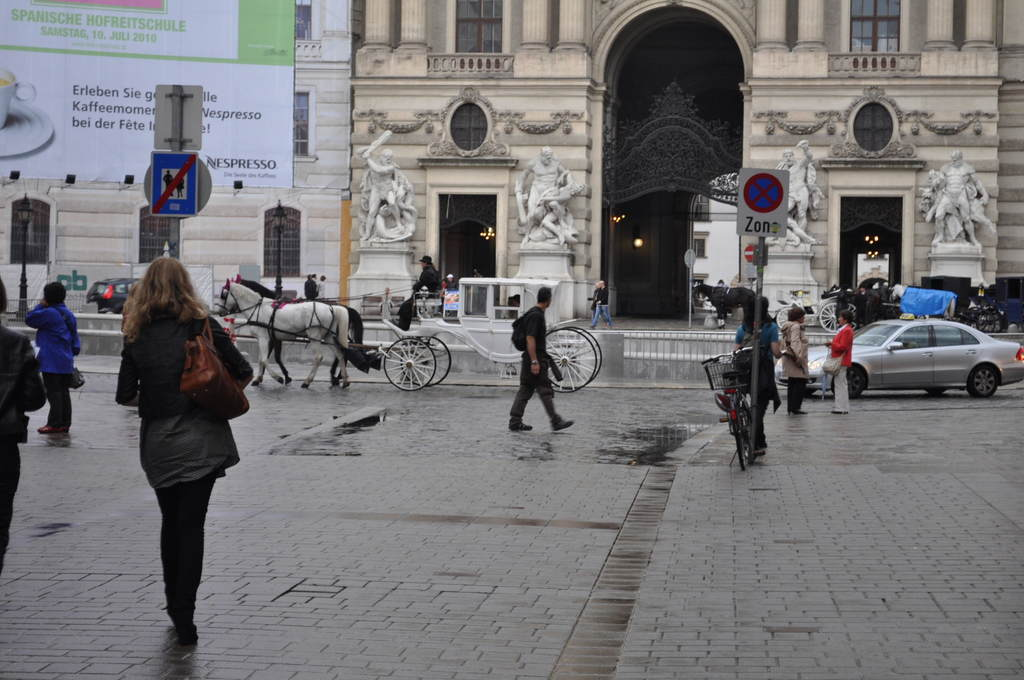Car: (775, 315, 1023, 397), (87, 279, 139, 314)
